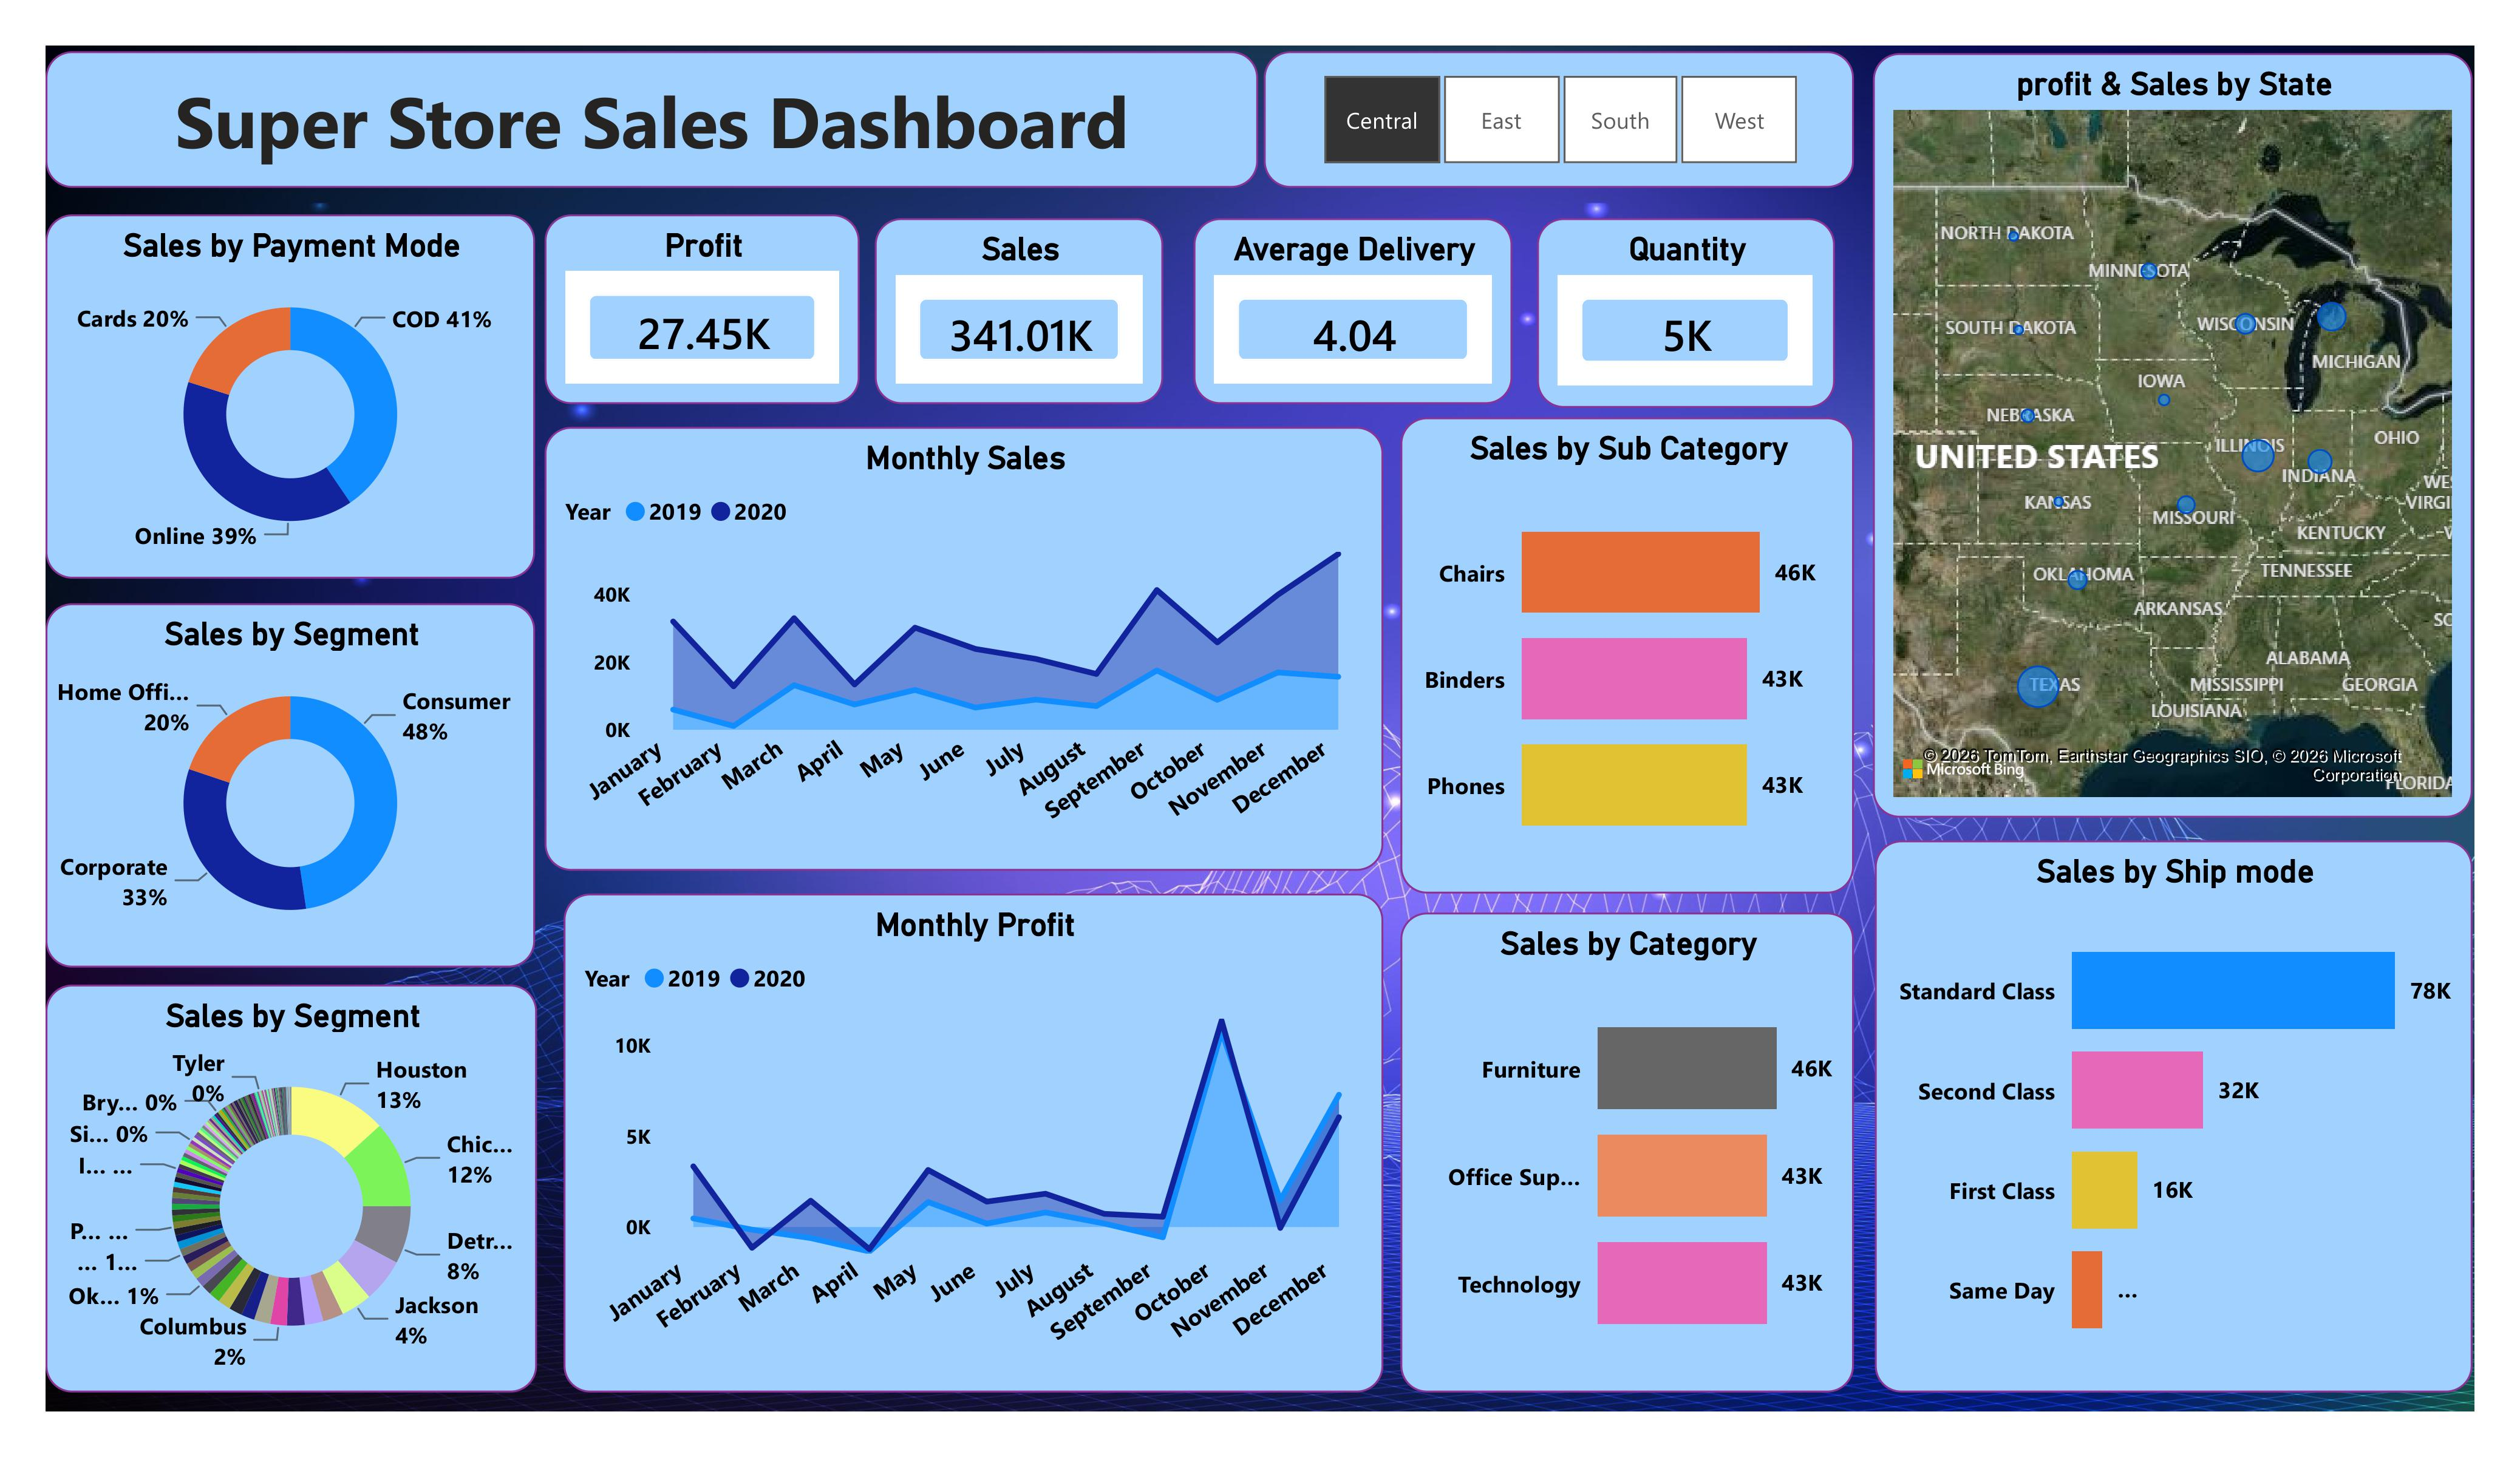

The dashboard page shown, as its layout file describes it:
{"tool":"powerbi","page":{"name":"Page 1","canvas":[1280,720],"ordinal":0},"visuals":[{"type":"clusteredBarChart","title":"Sales by Sub Category","fields":{"Y":["Sum(SuperStore Sales DataSet.Sales)"],"Category":["SuperStore Sales DataSet.Sub-Category"]},"box":[713.6,196.3,239.5,250.6],"z":0},{"type":"clusteredBarChart","title":"Sales by Ship mode","fields":{"Y":["Sum(SuperStore Sales DataSet.Sales)"],"Category":["SuperStore Sales DataSet.Ship Mode"]},"box":[964.2,418.5,314.8,291.4],"z":1000},{"type":"stackedAreaChart","title":" Monthly Profit","fields":{"Series":["SuperStore Sales DataSet.Order Date.Variation.Date Hierarchy.Year"],"Category":["SuperStore Sales DataSet.Order Date.Variation.Date Hierarchy.Month","SuperStore Sales DataSet.Order Date.Variation.Date Hierarchy.Day"],"Y":["Sum(SuperStore Sales DataSet.Profit)"]},"box":[272.8,446.9,432.1,263],"z":3000},{"type":"map","title":"profit & Sales by State","fields":{"Category":["SuperStore Sales DataSet.State"],"Size":["Sum(SuperStore Sales DataSet.Sales)"]},"box":[963,3.7,316,403.7],"z":4000},{"type":"clusteredBarChart","title":"Sales by  Category","fields":{"Y":["Sum(SuperStore Sales DataSet.Sales)"],"Category":["SuperStore Sales DataSet.Category"]},"box":[713.6,456.8,239.5,253.1],"z":5000},{"type":"donutChart","title":"Sales by Segment","fields":{"Category":["SuperStore Sales DataSet.Segment"],"Y":["Sum(SuperStore Sales DataSet.Sales)"]},"box":[0,293.8,257.9,192.2],"z":6000},{"type":"donutChart","title":"Sales by Payment Mode","fields":{"Y":["Sum(SuperStore Sales DataSet.Sales)"],"Category":["SuperStore Sales DataSet.Payment Mode"]},"box":[0,89.1,257.9,192.2],"z":7000},{"type":"stackedAreaChart","title":"Monthly Sales ","fields":{"Series":["SuperStore Sales DataSet.Order Date.Variation.Date Hierarchy.Year"],"Category":["SuperStore Sales DataSet.Order Date.Variation.Date Hierarchy.Month","SuperStore Sales DataSet.Order Date.Variation.Date Hierarchy.Day"],"Y":["Sum(SuperStore Sales DataSet.Sales)"]},"box":[263,201.2,442,233.3],"z":7001},{"type":"slicer","fields":{"Values":["SuperStore Sales DataSet.Region"]},"box":[642.4,3.1,311,71.9],"z":7002},{"type":"textbox","box":[0,3.1,639.3,71.9],"z":7003},{"type":"cardVisual","title":"Sales","fields":{"Data":["Sum(SuperStore Sales DataSet.Sales)"]},"box":[436.8,90.8,152.7,98.6],"z":7004},{"type":"cardVisual","title":"Quantity","fields":{"Data":["Sum(SuperStore Sales DataSet.Quantity)"]},"box":[786.4,91.4,156.8,100],"z":7006},{"type":"cardVisual","title":"Average Delivery","fields":{"Data":["Avg(SuperStore Sales DataSet.Avg Delivery)"]},"box":[604.9,90.8,168.1,98.6],"z":7007},{"type":"cardVisual","title":"Profit","fields":{"Data":["Sum(SuperStore Sales DataSet.Profit)"]},"box":[262.8,88.9,166.2,100.5],"z":7008},{"type":"donutChart","title":"Sales by Segment","fields":{"Y":["Sum(SuperStore Sales DataSet.Sales)"],"Category":["SuperStore Sales DataSet.City"]},"box":[0,495.1,259.3,214.8],"z":7009}]}

Visuals, with their boxes on the page's 1280x720 design canvas (x1, y1, x2, y2). These are canvas units, not pixel positions in the 2520x1457 screenshot, which may show the page scaled, cropped or inside an application window:
"Sales by Sub Category" clusteredBarChart: select_region(714, 196, 953, 447)
"Sales by Ship mode" clusteredBarChart: select_region(964, 418, 1279, 710)
" Monthly Profit" stackedAreaChart: select_region(273, 447, 705, 710)
"profit & Sales by State" map: select_region(963, 4, 1279, 407)
"Sales by  Category" clusteredBarChart: select_region(714, 457, 953, 710)
"Sales by Segment" donutChart: select_region(0, 294, 258, 486)
"Sales by Payment Mode" donutChart: select_region(0, 89, 258, 281)
"Monthly Sales " stackedAreaChart: select_region(263, 201, 705, 434)
slicer - SuperStore Sales DataSet.Region: select_region(642, 3, 953, 75)
textbox: select_region(0, 3, 639, 75)
"Sales" cardVisual: select_region(437, 91, 590, 189)
"Quantity" cardVisual: select_region(786, 91, 943, 191)
"Average Delivery" cardVisual: select_region(605, 91, 773, 189)
"Profit" cardVisual: select_region(263, 89, 429, 189)
"Sales by Segment" donutChart: select_region(0, 495, 259, 710)
